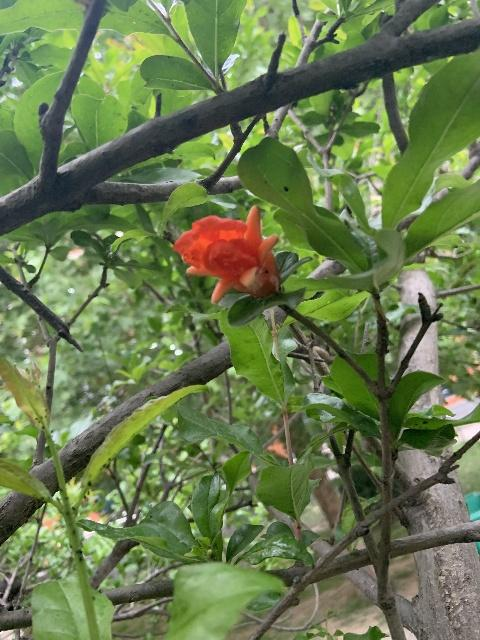flower: (173, 204, 281, 303)
